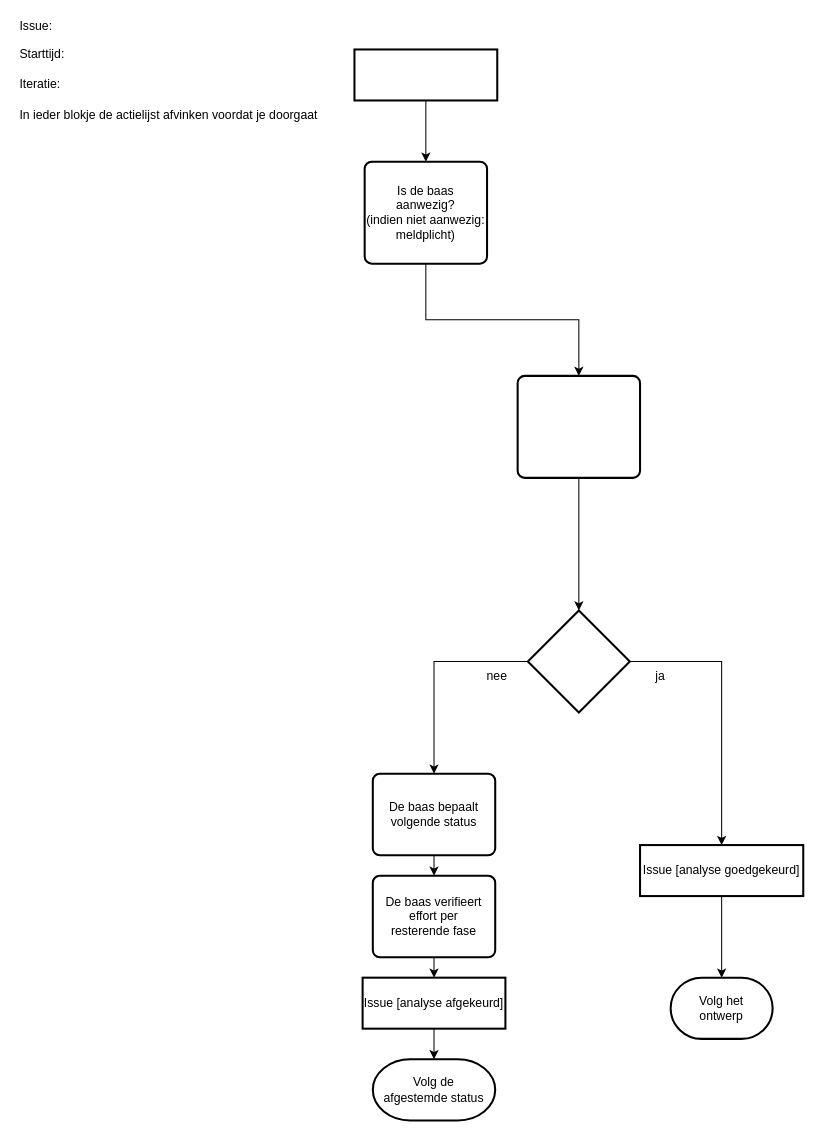
Some shapes in this 821 by 1138 pixel diagram are drawn without their labels. Each missing label, with the box of its shape:
Goedkeuring?: (526, 609, 630, 713)
Issue [geanalyseerd]: (353, 48, 498, 101)
Overleg resultaten voor goedkeuring vervolg: (516, 374, 641, 478)
